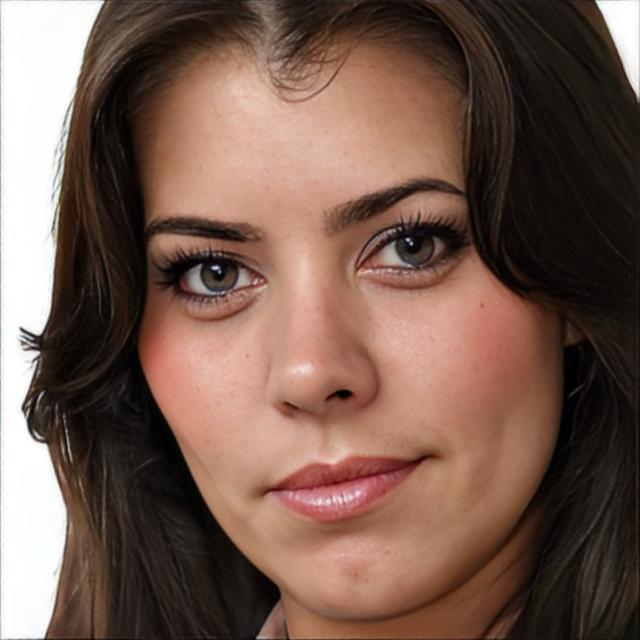content: (135, 26, 574, 618)
